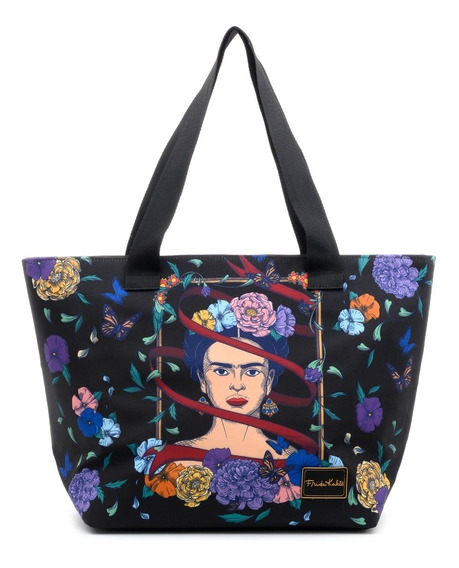cartera: (19, 24, 437, 536)
